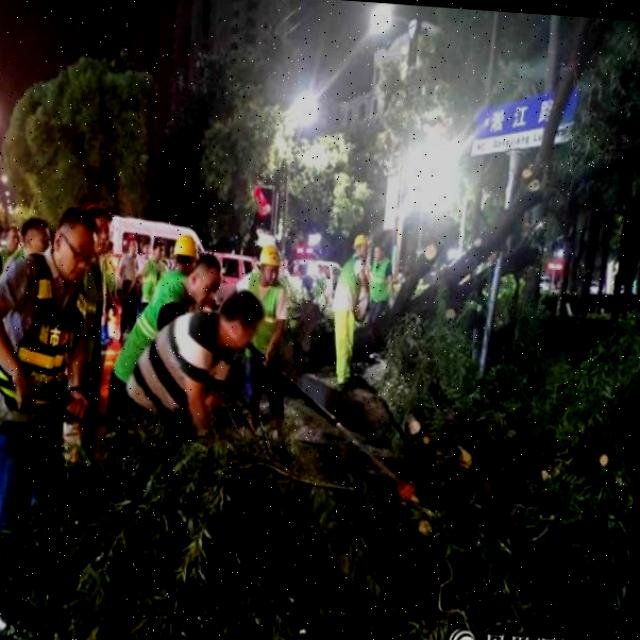fallen_object: (297, 0, 640, 393)
